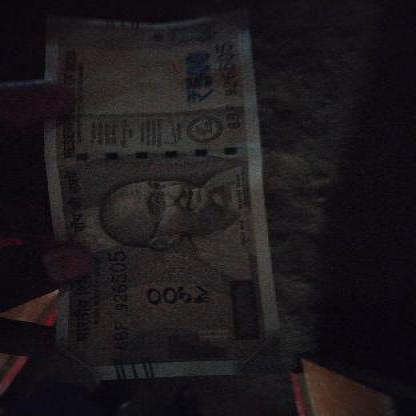New500Front: (44, 20, 280, 372)
